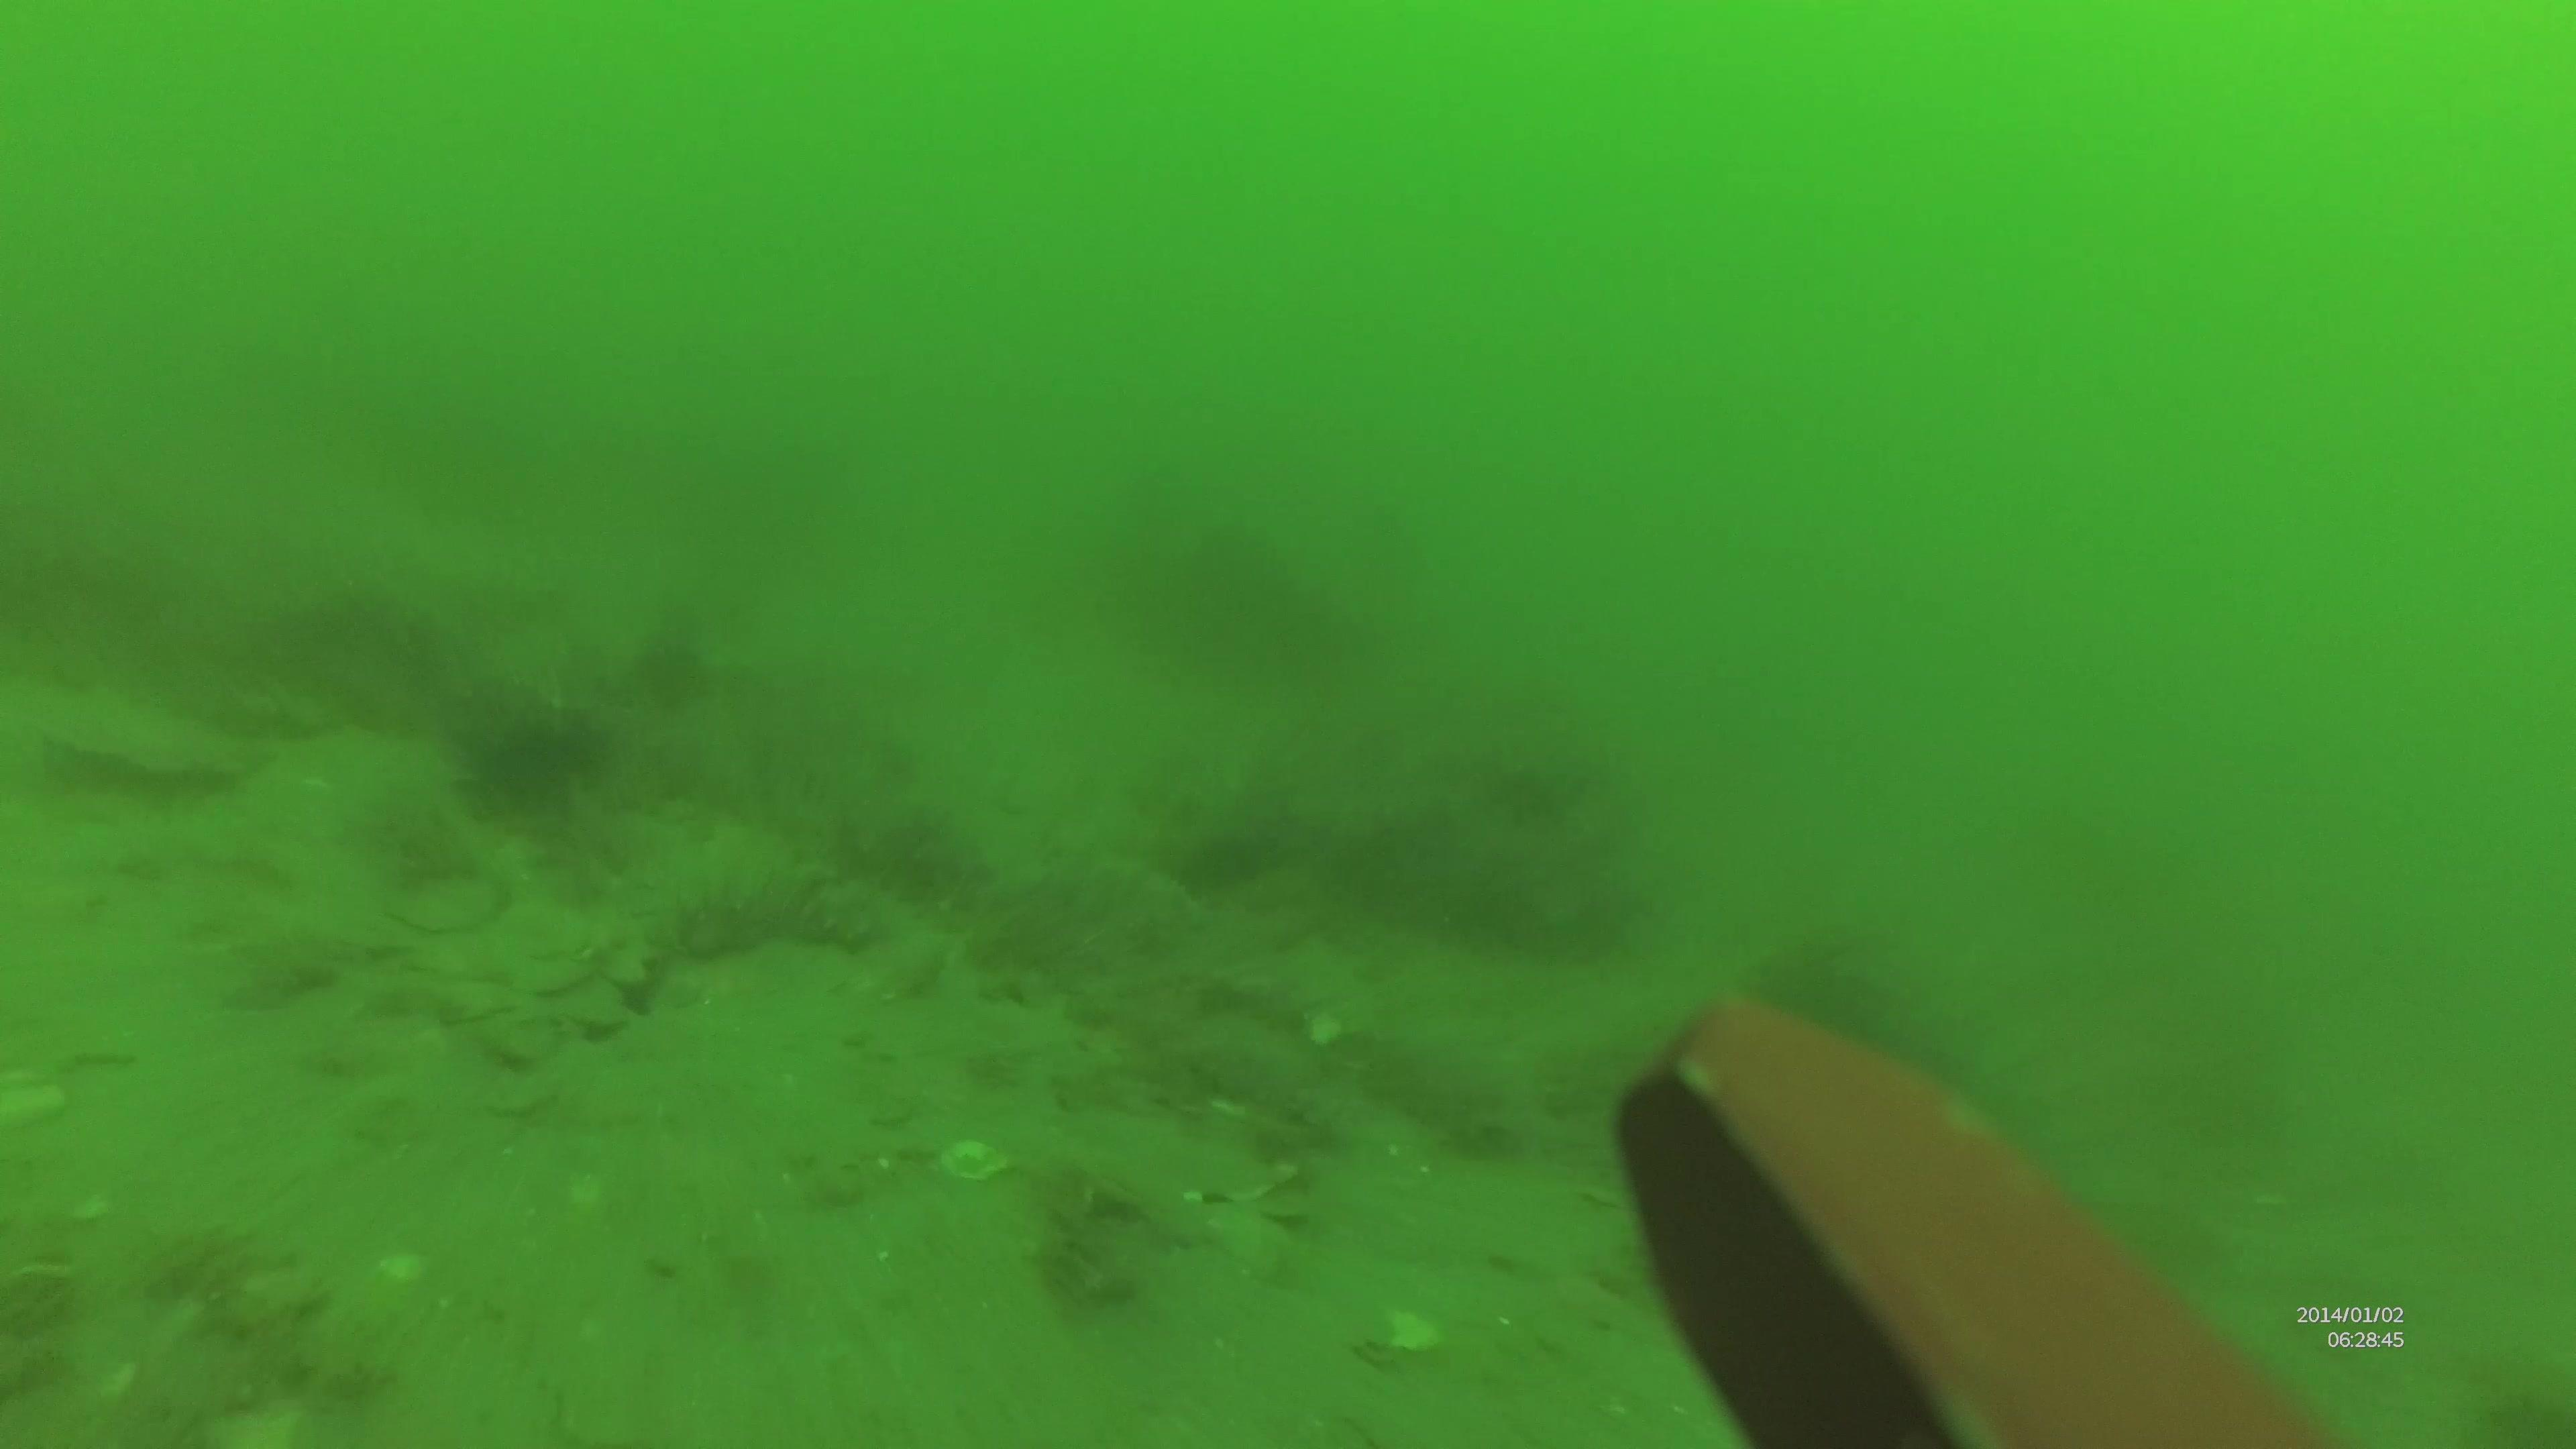holothurian: (609, 862, 899, 973)
